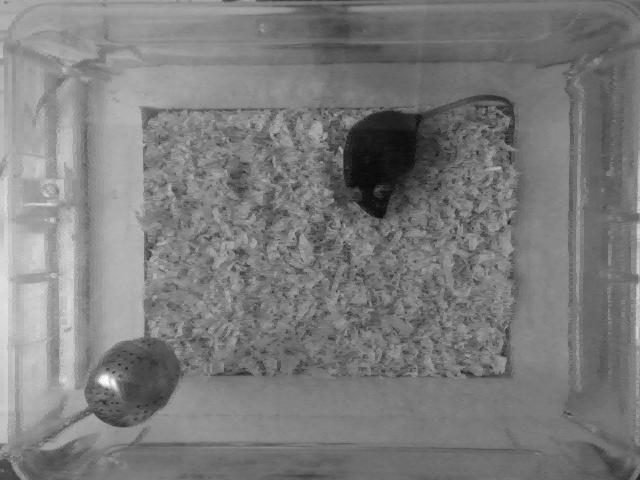mice: (342, 88, 520, 217)
